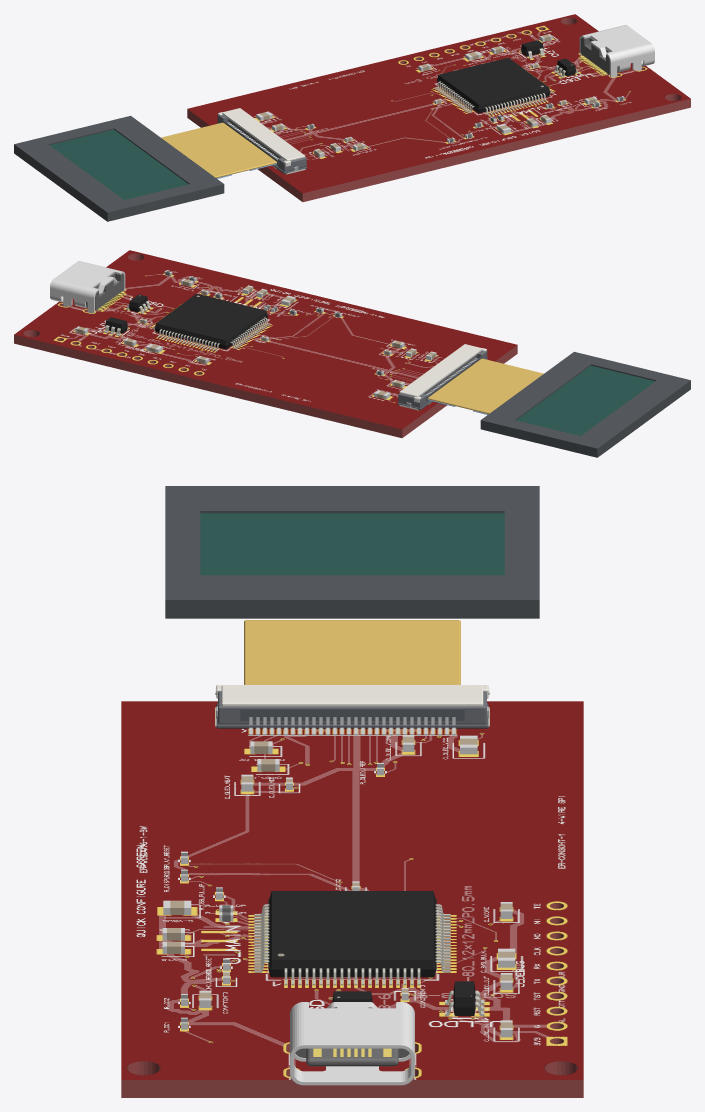
3 renders of one model, top to bottom at view 1: azimuth 30°, elevation 25°; view 2: azimuth 150°, elevation 25°; view 3: azimuth 270°, elevation 25°, orthographic. The views are drawn at different scales.
Parts seen in each view (by area): view 1: Box0, J_DISPLAY, U_MAIN, J_USB; view 2: Box0, J_DISPLAY, U_MAIN, J_USB, U_LDO; view 3: Box0, J_DISPLAY, U_MAIN, J_USB, U_LDO.
Boxes of the visible parts, x1,y1,x2,y2 form: Box0: [187, 14, 690, 201]; J_DISPLAY: [14, 108, 307, 221]; U_MAIN: [434, 57, 552, 115]; J_USB: [579, 25, 654, 77]; Box0: [14, 250, 517, 437]; J_DISPLAY: [397, 344, 690, 457]; U_MAIN: [152, 293, 270, 351]; J_USB: [50, 261, 125, 313]; U_LDO: [104, 317, 128, 335]; Box0: [121, 701, 583, 1097]; J_DISPLAY: [165, 486, 539, 735]; U_MAIN: [254, 891, 450, 985]; J_USB: [290, 1002, 414, 1085]; U_LDO: [445, 981, 484, 1016].
Size of the model in its own units: 95.41 by 4.65 by 33.
25 materials, 2 textured.
